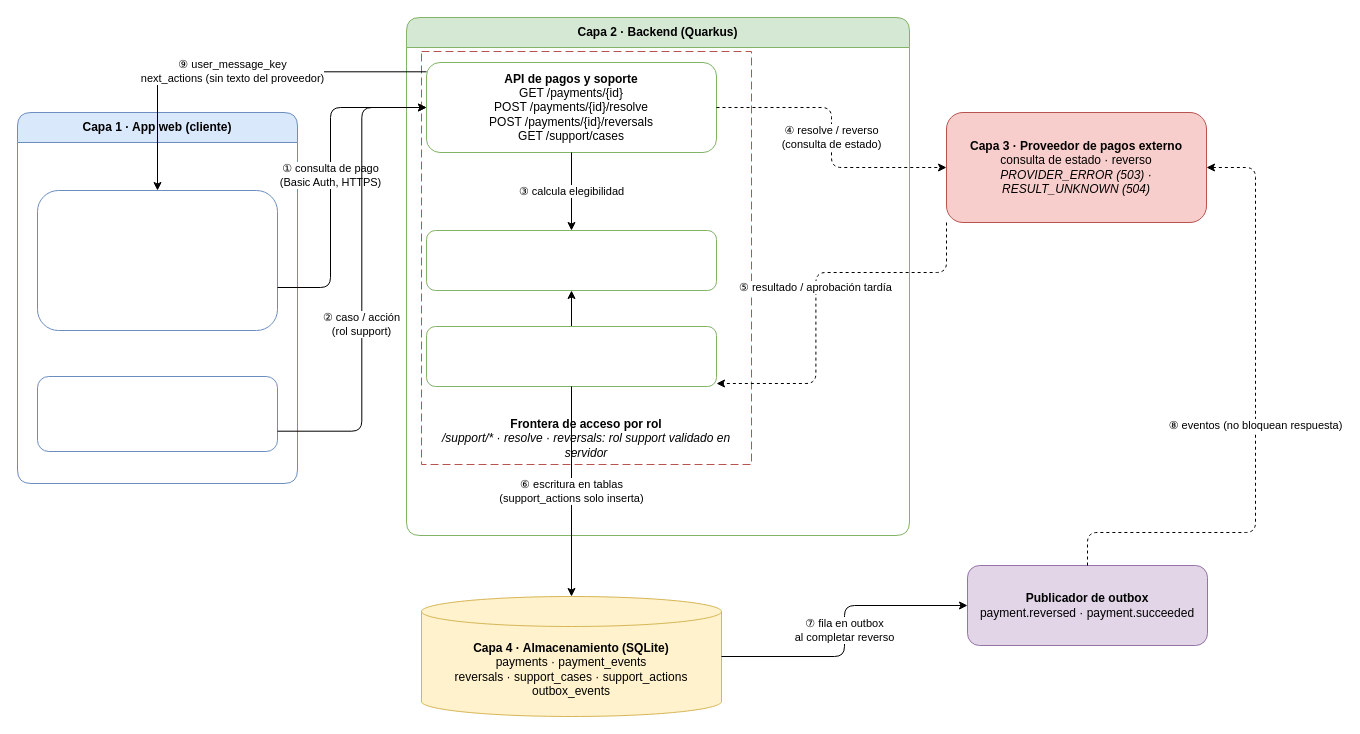
Image size: 1360x734. Some labels were removed from this diagram. Here are the shapes that lost their labels. From the top down, the centre of each, then its label:
At point (157, 260): "Usuario final Ruta A · B · C mensaje por user_message_key".
At point (571, 260): "Elegibilidad (calculada) retry · investigate · dispute".
At point (571, 356): "Auditoría de soporte lectura y acciones registradas".
At point (157, 414): "Consola de soporte rol support · enmascarado".
